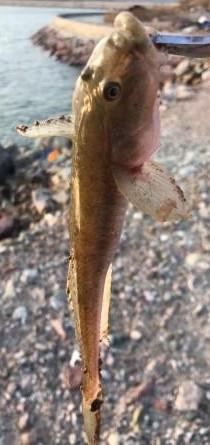fish: (17, 12, 187, 444)
